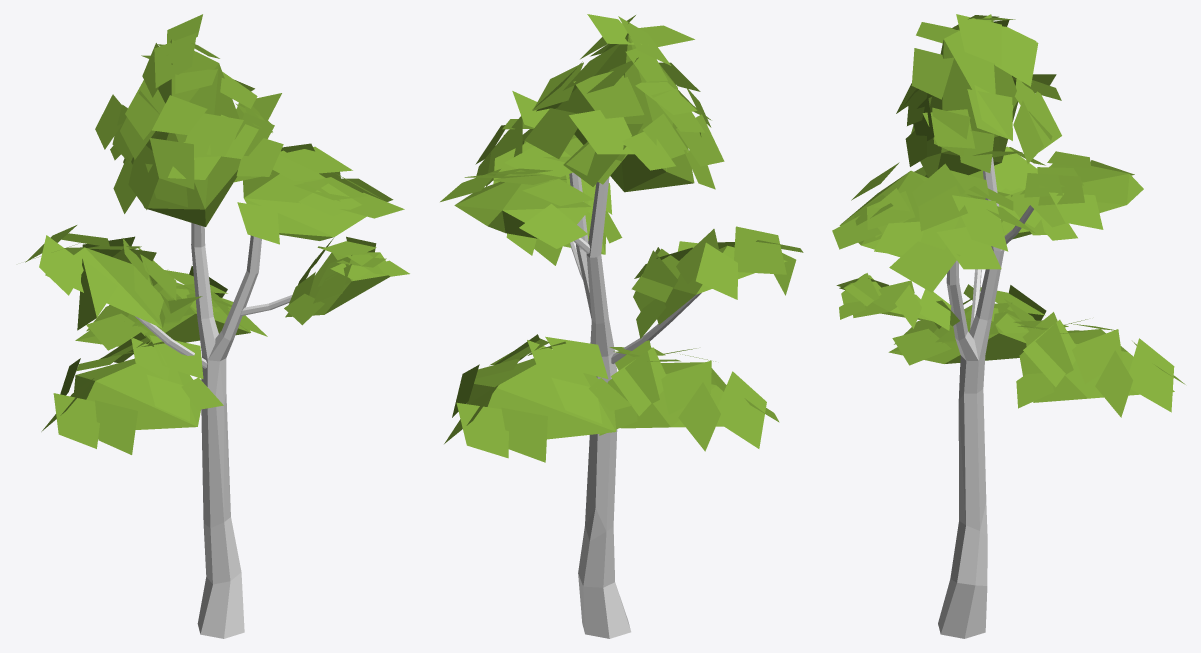
Rendered from SM_Tree_Oak_Sapling_A.fbx.
3 views of the same model, side by side, from view 1: azimuth 30°, elevation 25°; view 2: azimuth 150°, elevation 25°; view 3: azimuth 270°, elevation 25° (orthographic). The views are drawn at different scales.
Parts seen in each view (by area): view 1: tree-oak-sapling-a; view 2: tree-oak-sapling-a; view 3: tree-oak-sapling-a.
Boxes of the visible parts, x1=… form: tree-oak-sapling-a: x1=25, y1=14, x2=409, y2=638; tree-oak-sapling-a: x1=440, y1=14, x2=803, y2=638; tree-oak-sapling-a: x1=832, y1=14, x2=1185, y2=638.
Bounding box in the file's own units: 1.33 × 2.31 × 1.21.
